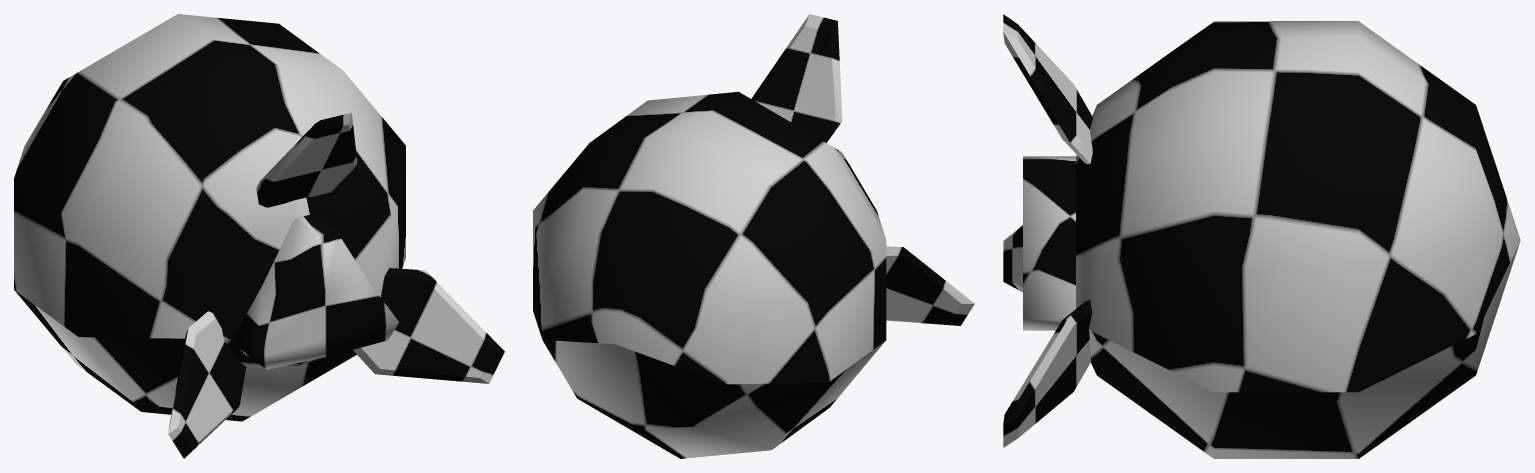
File: drone_champion.obj
3 views of the same model, side by side, from view 1: azimuth 30°, elevation 25°; view 2: azimuth 150°, elevation 25°; view 3: azimuth 270°, elevation 25° (orthographic). The views are drawn at different scales.
Visible parts, largest first — view 1: ldrone_soccer_ow_poly; view 2: ldrone_soccer_ow_poly; view 3: ldrone_soccer_ow_poly.
Boxes of the visible parts, <box> form: ldrone_soccer_ow_poly: <box>14,14,504,458</box>; ldrone_soccer_ow_poly: <box>533,14,974,458</box>; ldrone_soccer_ow_poly: <box>1003,14,1520,458</box>.
Size of the model in its own units: 27.26 by 28.94 by 32.37.
1 material, 1 textured.
